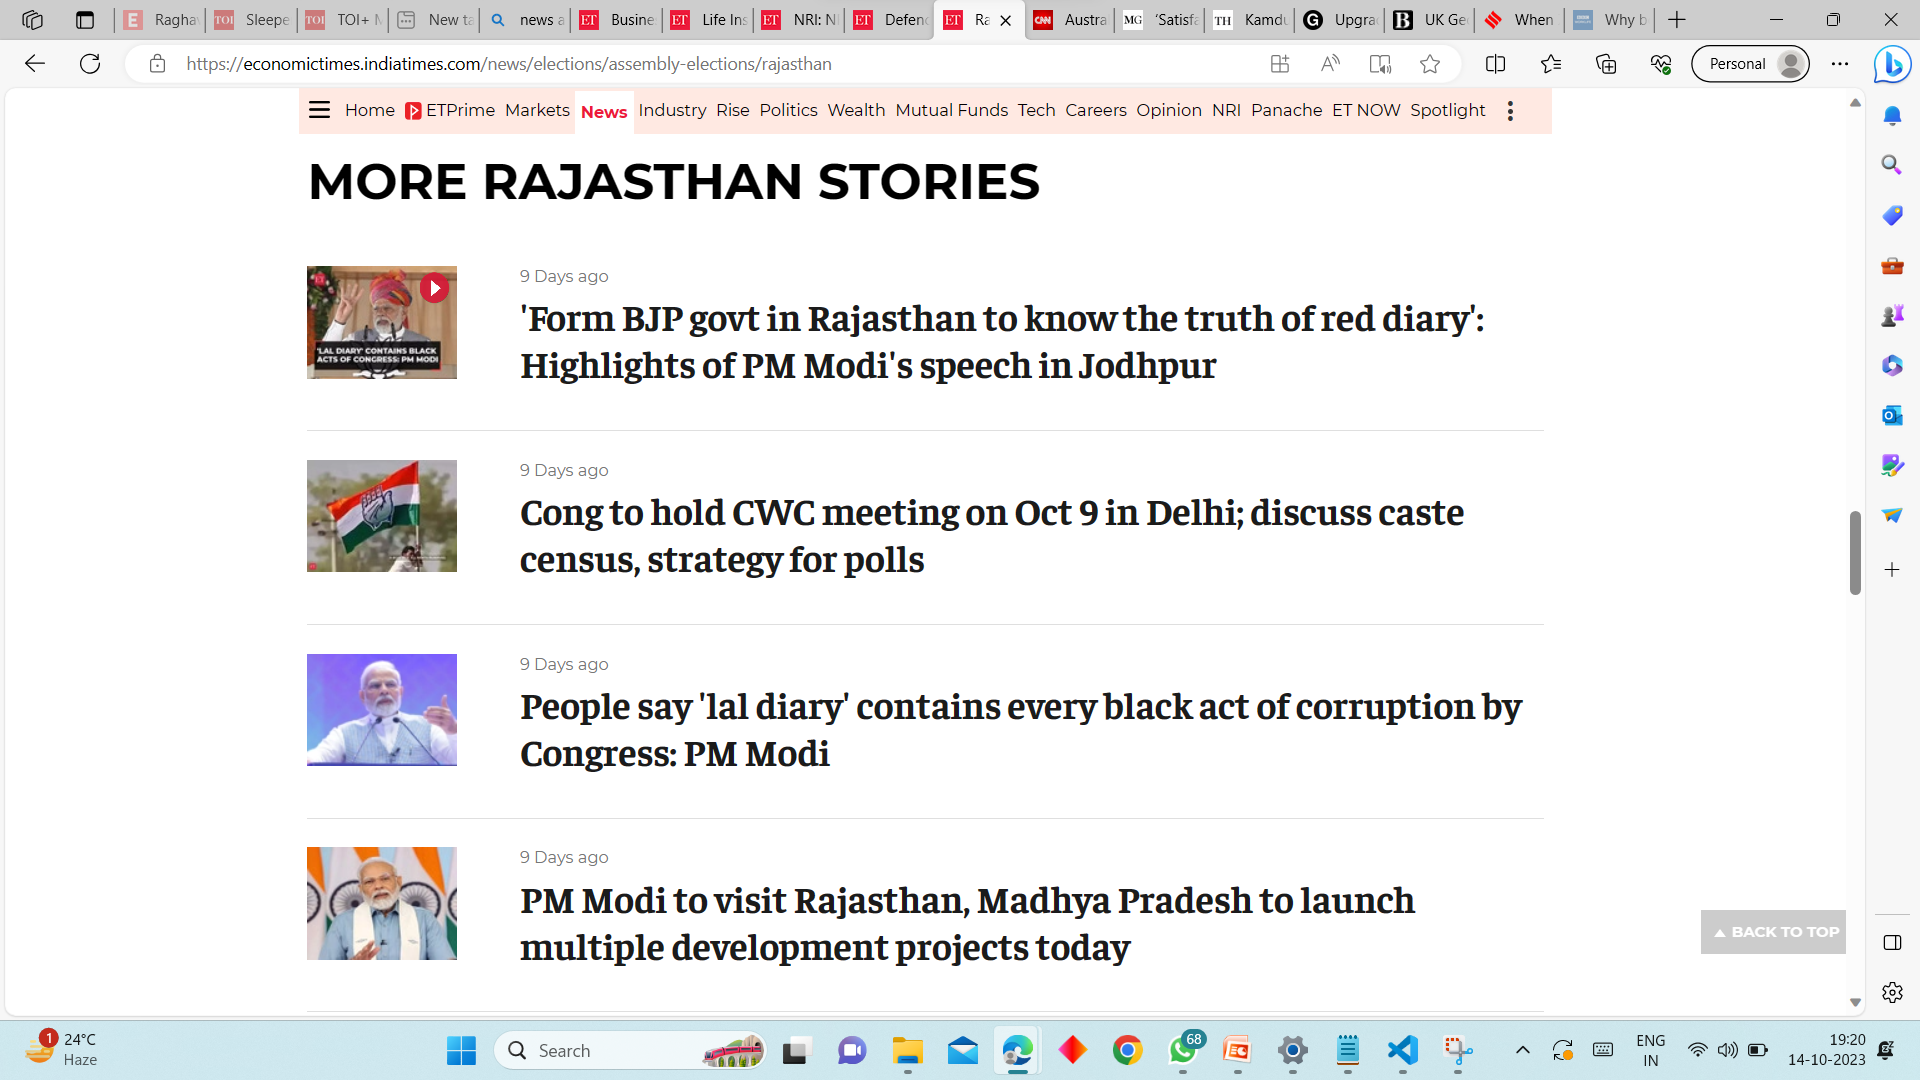Image: (302, 261, 465, 386), (302, 833, 454, 961), (299, 650, 463, 767), (309, 454, 454, 582)
Paragraph: (501, 257, 1505, 418), (498, 832, 1482, 996), (501, 653, 1545, 790), (492, 452, 1482, 592), (302, 154, 1054, 215)
